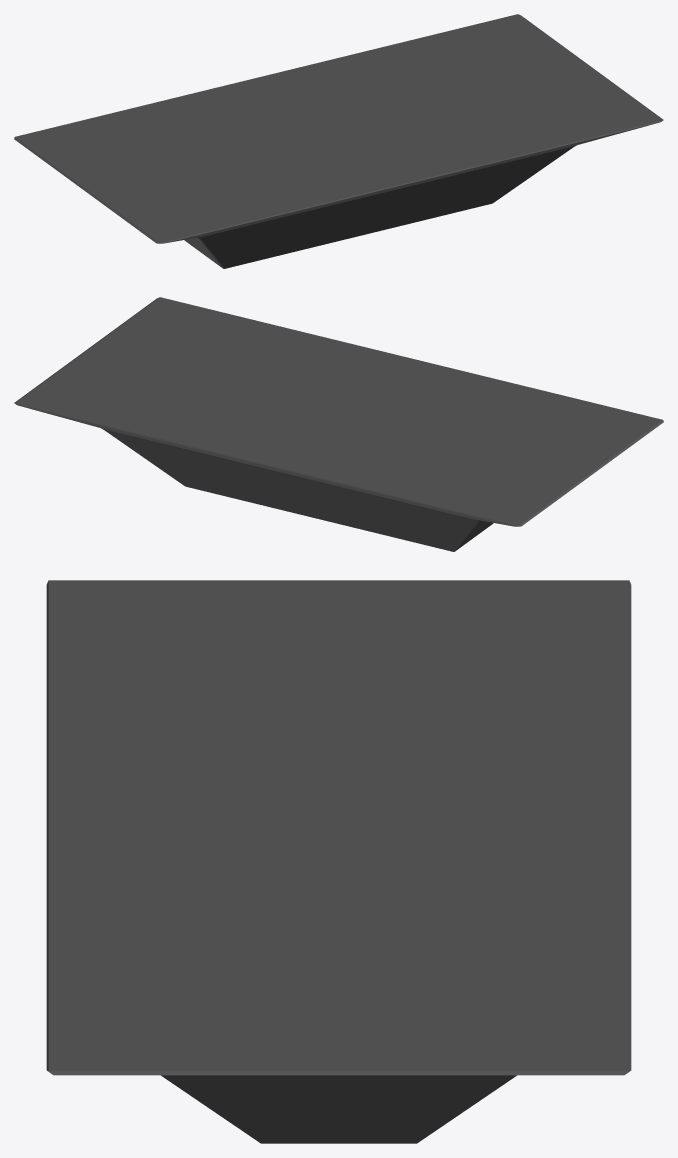
File: SacraficialAltar.fbx
The picture shows the model from 3 angles, top to bottom: view 1: azimuth 30°, elevation 25°; view 2: azimuth 150°, elevation 25°; view 3: azimuth 270°, elevation 25°; orthographic projection. The views are drawn at different scales.
Parts seen in each view (by area): view 1: SacraficialAltarWIP; view 2: SacraficialAltarWIP; view 3: SacraficialAltarWIP.
Boxes of the visible parts, box(x1,y1,x2,y2) form: SacraficialAltarWIP: box(14, 14, 663, 268); SacraficialAltarWIP: box(14, 297, 663, 551); SacraficialAltarWIP: box(46, 580, 631, 1143).
Size of the model in its own units: 396 by 69.72 by 198.
